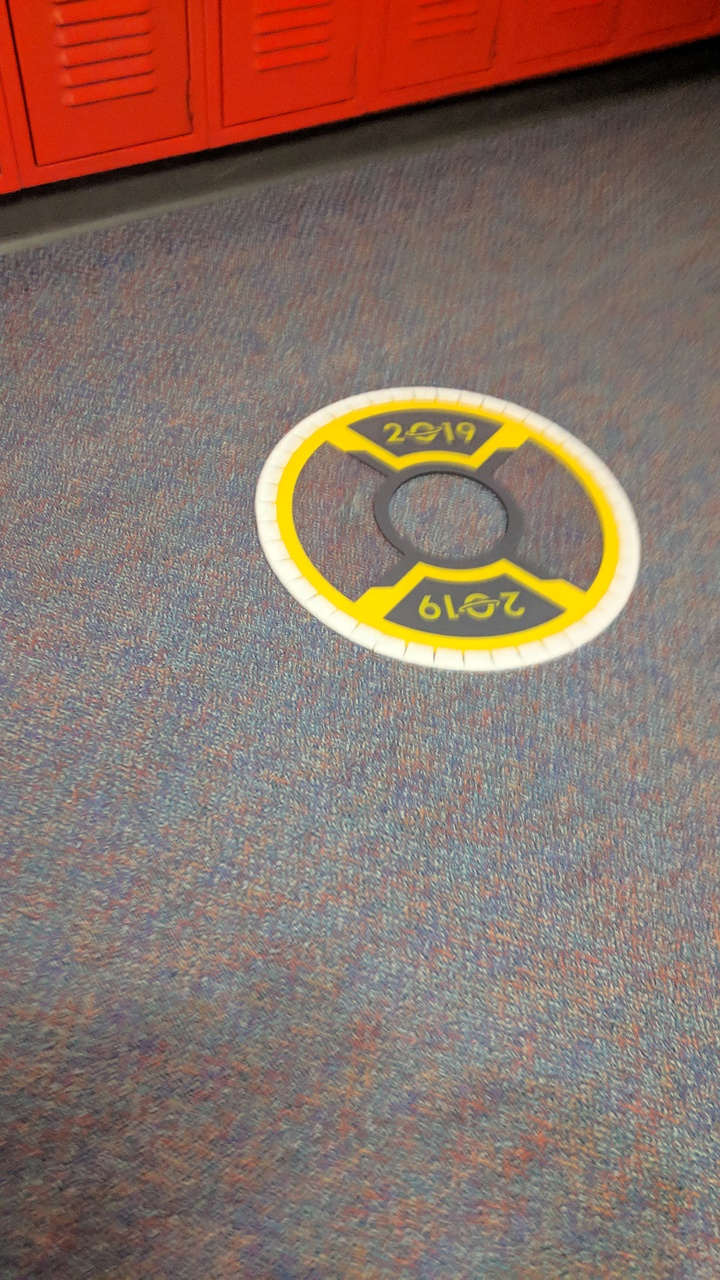hatch_panel: (254, 380, 657, 678)
